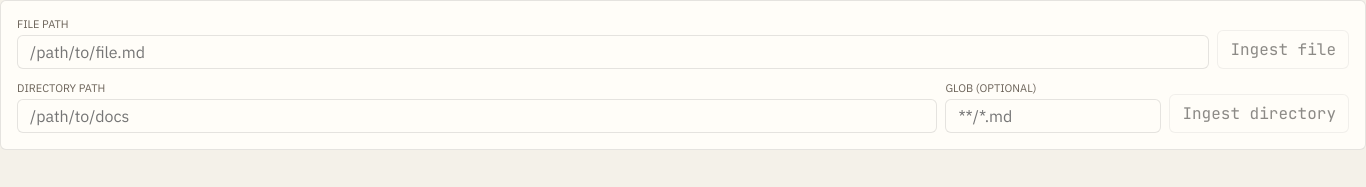
Scenario: KbIngest › shows OperationProgress with elapsed seconds while dir ingest is in-flight
The image size is (1366, 187).
// Type into the dir path input (real timers still active for findBy / userEvent internals)
In the field labelled "Directory path": (477, 116) 17,99 -> 937,133, type "/tmp/docs"
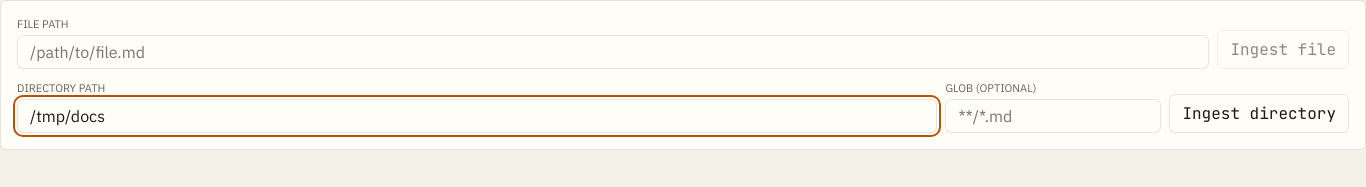
// Use synchronous fireEvent — userEvent hangs under fake timers
Submit the form labelled "Directory path Glob (optional) Ingest directory", box 17,81 -> 1349,133
Wait 3000 ms
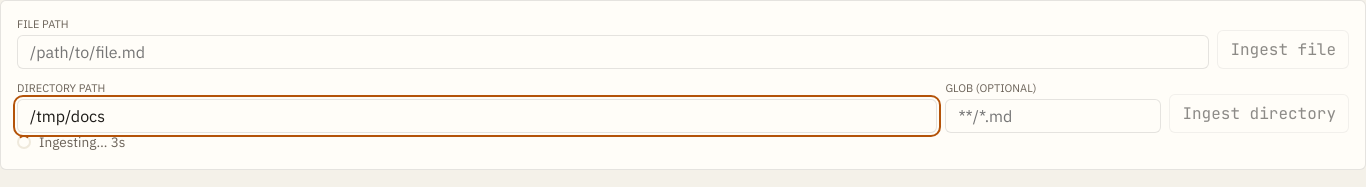
Expected: the message reads "Ingesting… 3s", 17,133 -> 125,151
